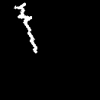double_crochet: (15, 3, 36, 52)
